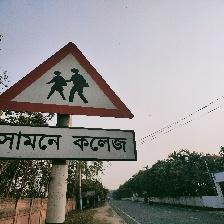College-in-front: (0, 27, 154, 176)
